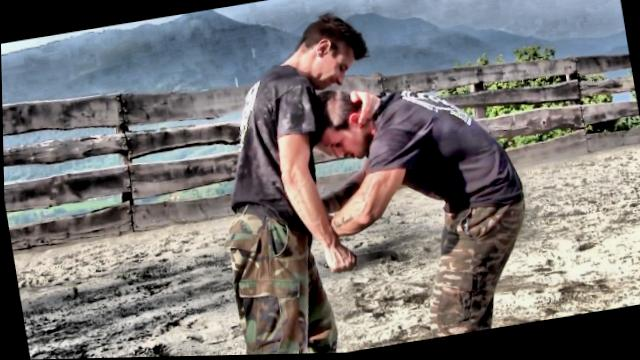knife: (315, 240, 400, 278)
